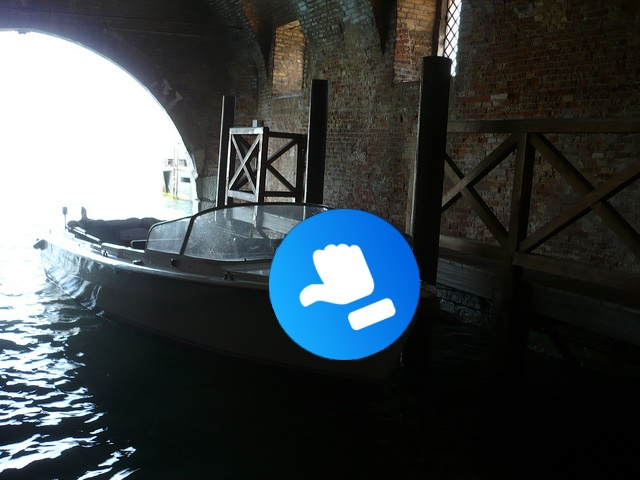like: (269, 209, 420, 360)
